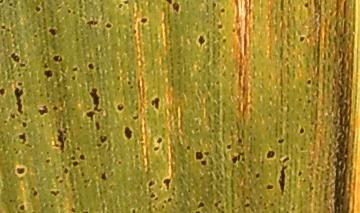tarspot: (84, 83, 106, 123), (49, 123, 72, 155), (11, 85, 29, 114), (277, 161, 289, 197), (146, 92, 164, 114), (121, 123, 136, 146), (300, 73, 318, 89), (81, 17, 102, 30), (194, 31, 208, 50), (264, 146, 280, 162), (143, 175, 161, 189), (36, 103, 51, 119), (15, 131, 29, 148), (161, 175, 174, 193), (192, 147, 205, 164), (8, 51, 22, 66), (113, 99, 127, 114), (14, 164, 29, 177), (98, 168, 111, 183), (190, 198, 205, 211), (297, 30, 309, 46), (46, 25, 59, 39), (136, 14, 150, 27), (154, 132, 167, 146), (263, 180, 277, 193), (96, 132, 111, 144), (91, 118, 103, 133), (51, 51, 64, 64), (85, 60, 97, 74), (33, 2, 45, 15), (104, 18, 116, 31), (217, 5, 230, 17), (49, 187, 61, 199), (150, 143, 162, 155), (297, 122, 306, 138), (171, 3, 184, 14), (228, 154, 239, 167), (240, 198, 253, 209), (17, 201, 28, 213), (50, 102, 61, 114), (42, 155, 54, 166), (224, 139, 234, 152), (295, 166, 305, 179), (42, 68, 53, 79), (68, 63, 80, 73), (304, 96, 314, 108), (117, 1, 130, 10), (15, 63, 29, 71), (60, 166, 71, 176), (199, 159, 209, 170), (253, 170, 263, 181), (235, 135, 244, 147), (212, 197, 224, 206), (276, 135, 285, 147), (19, 119, 30, 128), (67, 204, 78, 213), (146, 190, 157, 199), (1, 85, 8, 98), (8, 1, 17, 11), (302, 1, 312, 10), (77, 152, 88, 160), (128, 205, 139, 213), (30, 188, 39, 197), (215, 22, 225, 30), (308, 183, 316, 193), (166, 195, 174, 204), (71, 160, 80, 167), (164, 1, 178, 5), (80, 171, 86, 180)
